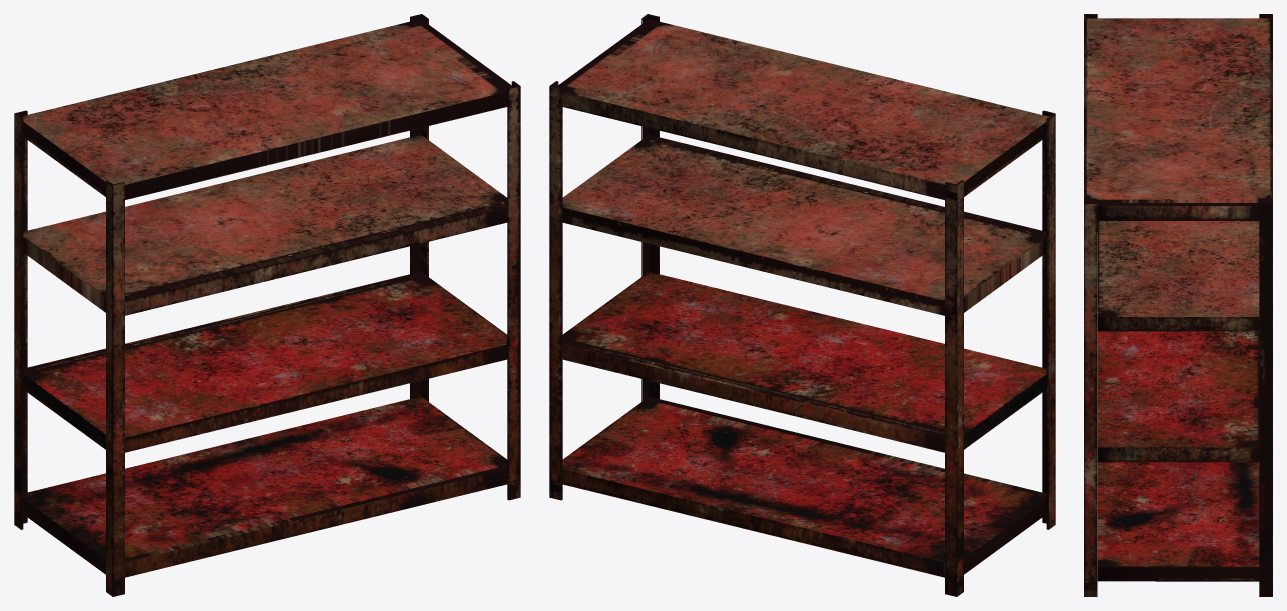
File: shelve.glb
3 views of the same model, side by side, from view 1: azimuth 30°, elevation 25°; view 2: azimuth 150°, elevation 25°; view 3: azimuth 270°, elevation 25° (orthographic). The views are drawn at different scales.
Parts seen in each view (by area): view 1: SHELF_GREEN; view 2: SHELF_GREEN; view 3: SHELF_GREEN.
Boxes of the visible parts, x1,y1,x2,y2 form: SHELF_GREEN: (14,14,520,596); SHELF_GREEN: (549,14,1055,596); SHELF_GREEN: (1084,14,1272,596).
Bounding box in the file's own units: 747 × 720 × 313.
Materials: 1 (1 with a texture image).
